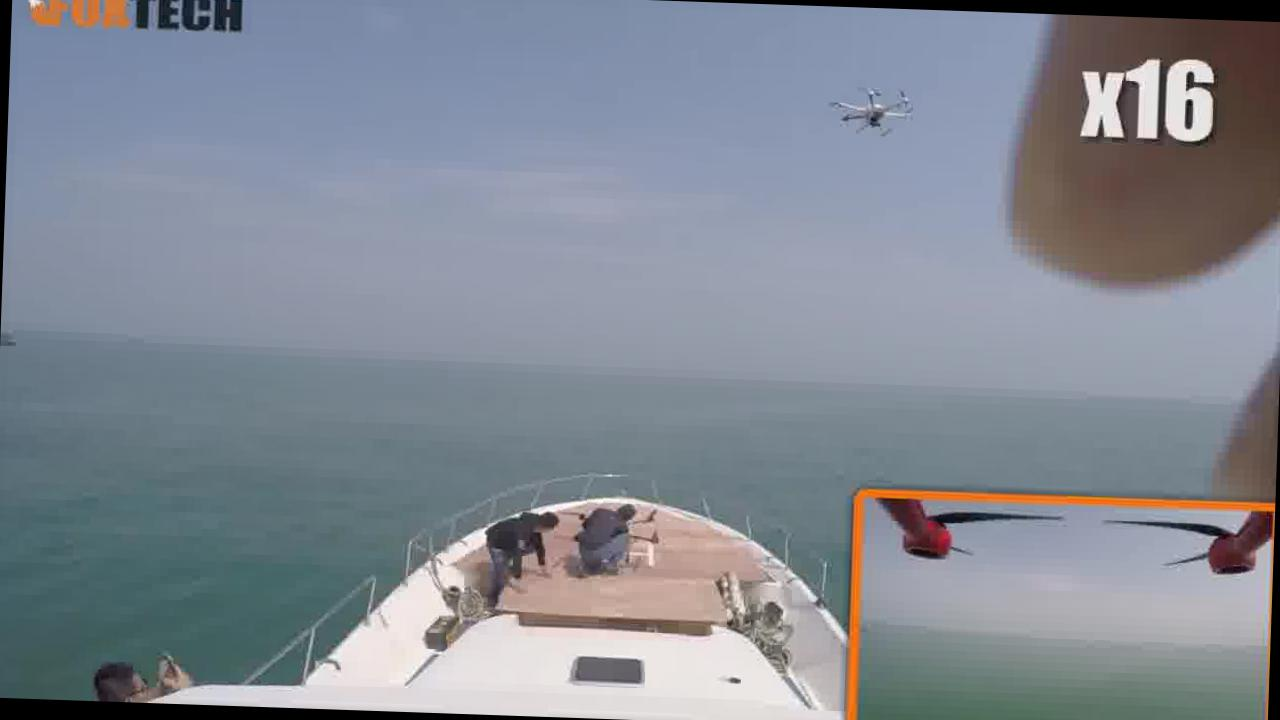drone: (825, 80, 915, 138)
